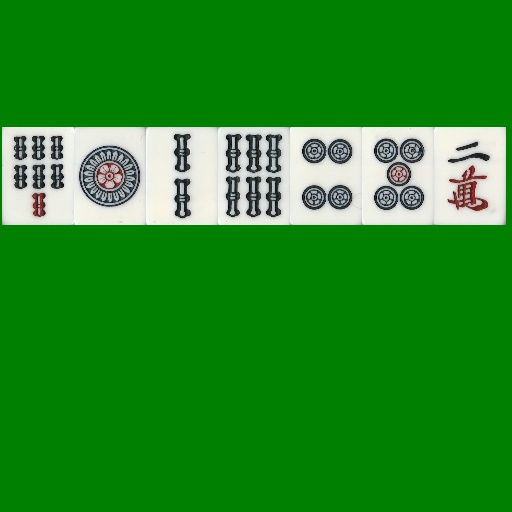1p: (74, 127, 146, 225)
2m: (434, 127, 506, 225)
2s: (146, 127, 218, 225)
4p: (290, 127, 362, 225)
5p: (362, 127, 434, 225)
6s: (218, 127, 290, 225)
7s: (2, 127, 74, 225)
